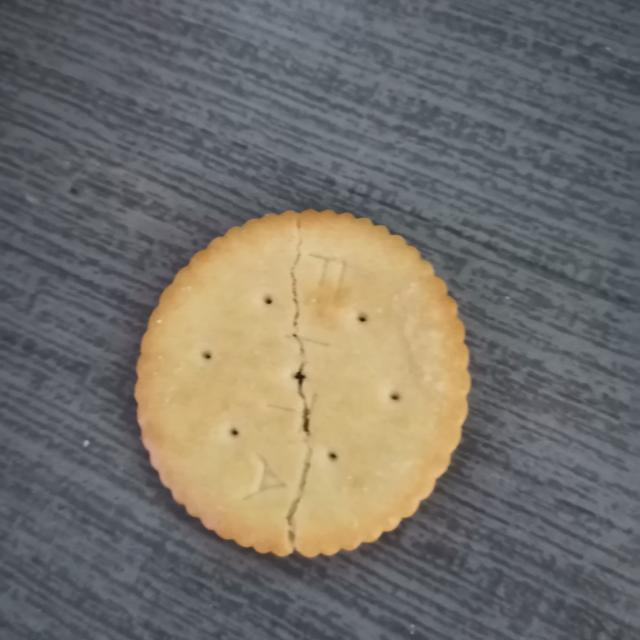Fracture: (269, 208, 328, 554)
